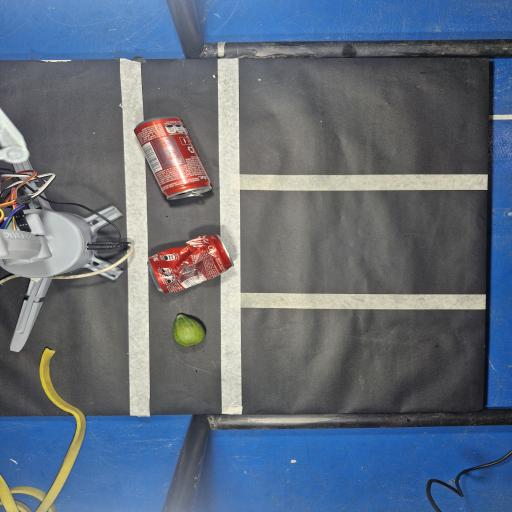higo: (173, 314, 205, 347)
lata: (134, 118, 211, 199)
lata_defectuoso: (148, 235, 232, 293)
